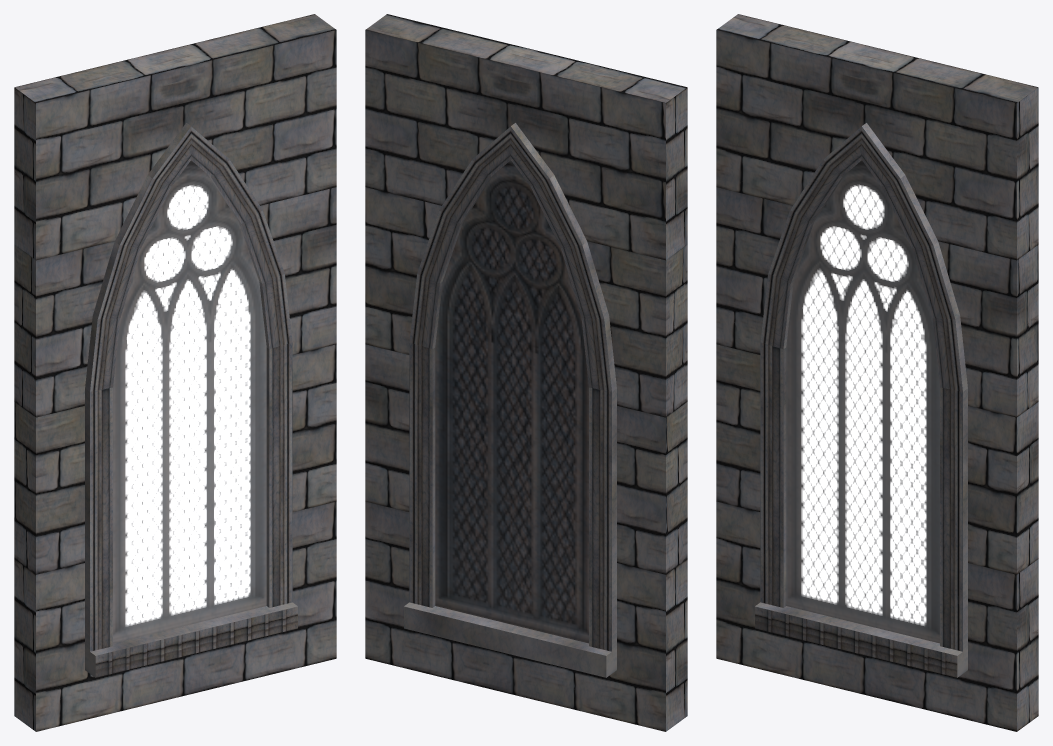
File: wall_window_large_01.glb
The picture shows the model from 3 angles, left to right: view 1: azimuth 30°, elevation 25°; view 2: azimuth 150°, elevation 25°; view 3: azimuth 330°, elevation 25°; orthographic projection.
Visible parts, largest first — view 1: wall_window_large_01; view 2: wall_window_large_01; view 3: wall_window_large_01.
Part boxes in pixels (x1,y1,x2,y2): wall_window_large_01: (14, 14, 336, 731); wall_window_large_01: (365, 14, 687, 731); wall_window_large_01: (716, 14, 1038, 731).
Bounding box in the file's own units: 8 × 16 × 1.97.
Materials: 2 (2 with a texture image).
